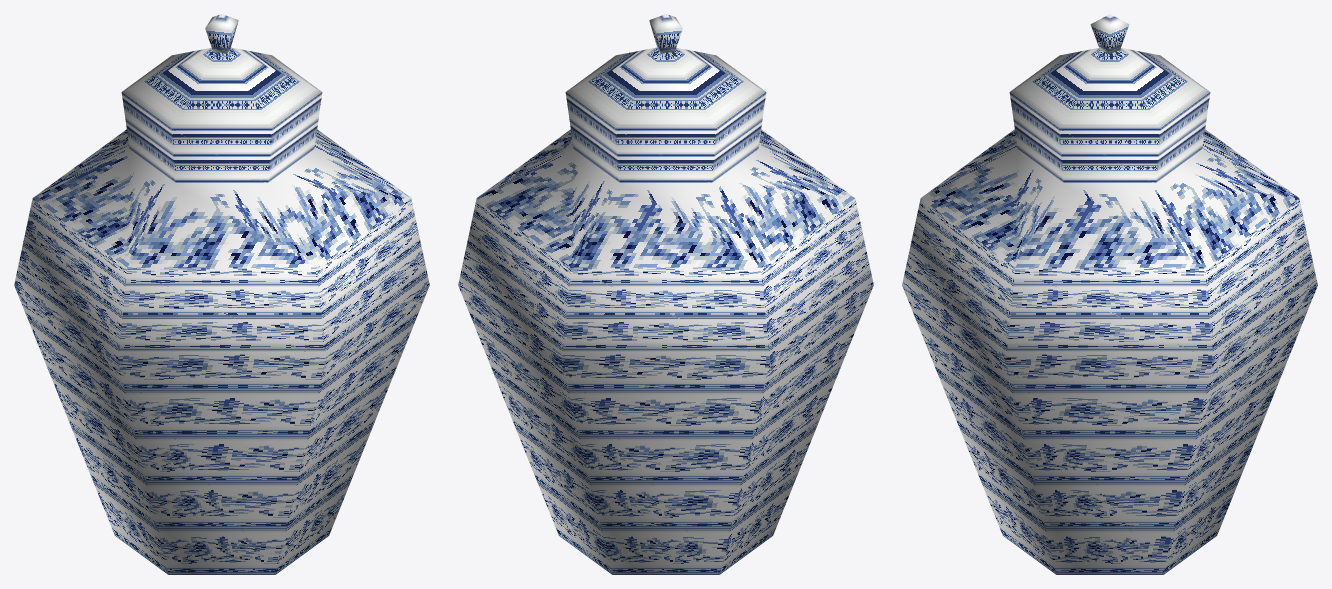
File: 3543IMOT01_16.gltf
3 views of the same model, side by side, from view 1: azimuth 30°, elevation 25°; view 2: azimuth 150°, elevation 25°; view 3: azimuth 270°, elevation 25° (orthographic).
Parts seen in each view (by area): view 1: 3543IMOT01_16; view 2: 3543IMOT01_16; view 3: 3543IMOT01_16.
Part boxes in pixels (<box>): 3543IMOT01_16: <box>14,14,429,574</box>; 3543IMOT01_16: <box>458,14,873,574</box>; 3543IMOT01_16: <box>902,14,1317,574</box>.
Bounding box in the file's own units: 0.7173 × 1.15 × 0.8286.
Materials: 2 (2 with a texture image).
